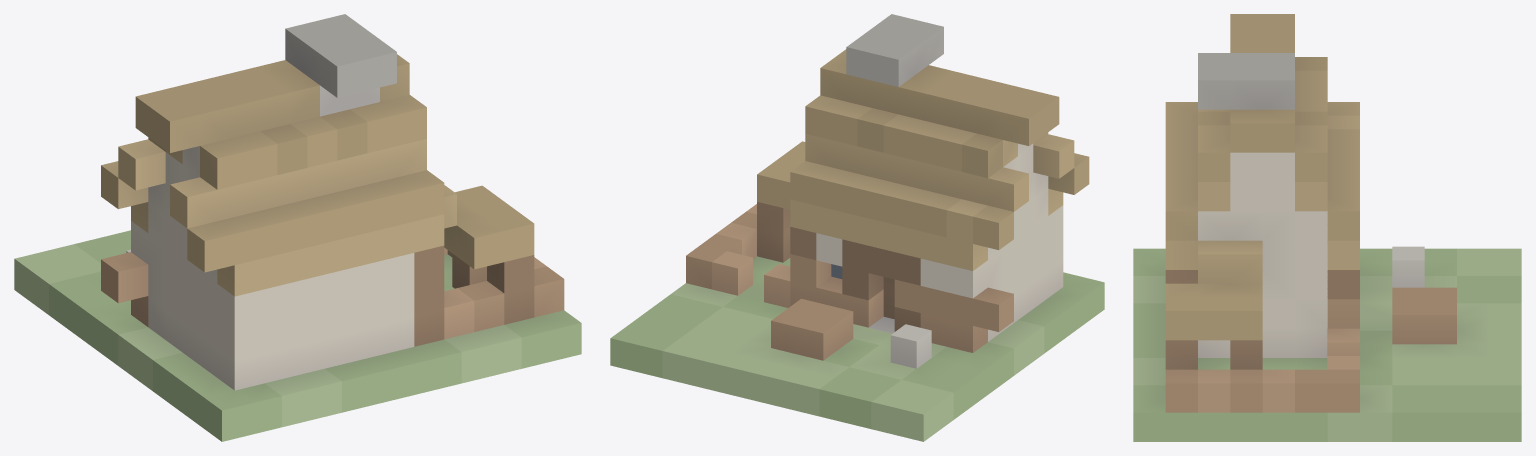
The model's file is sheep_farm.lite.glb.
3 renders of one model, left to right at view 1: azimuth 30°, elevation 25°; view 2: azimuth 150°, elevation 25°; view 3: azimuth 270°, elevation 25°, orthographic. The views are drawn at different scales.
Parts seen in each view (by area): view 1: sheep_farm; view 2: sheep_farm; view 3: sheep_farm.
Part boxes in pixels (left/top/right/bottom): sheep_farm: left=14, top=14, right=581, bottom=441; sheep_farm: left=610, top=14, right=1104, bottom=441; sheep_farm: left=1133, top=14, right=1521, bottom=441.
Bounding box in the file's own units: 3 × 2.5 × 3.
